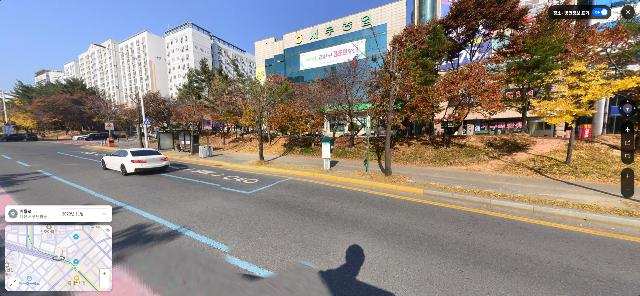ginkgo: (534, 59, 639, 165)
other: (495, 0, 632, 132), (364, 21, 448, 146), (369, 22, 432, 176), (215, 63, 301, 161), (427, 63, 509, 145), (434, 1, 532, 66), (316, 50, 369, 149), (179, 57, 227, 137), (284, 80, 333, 146)
